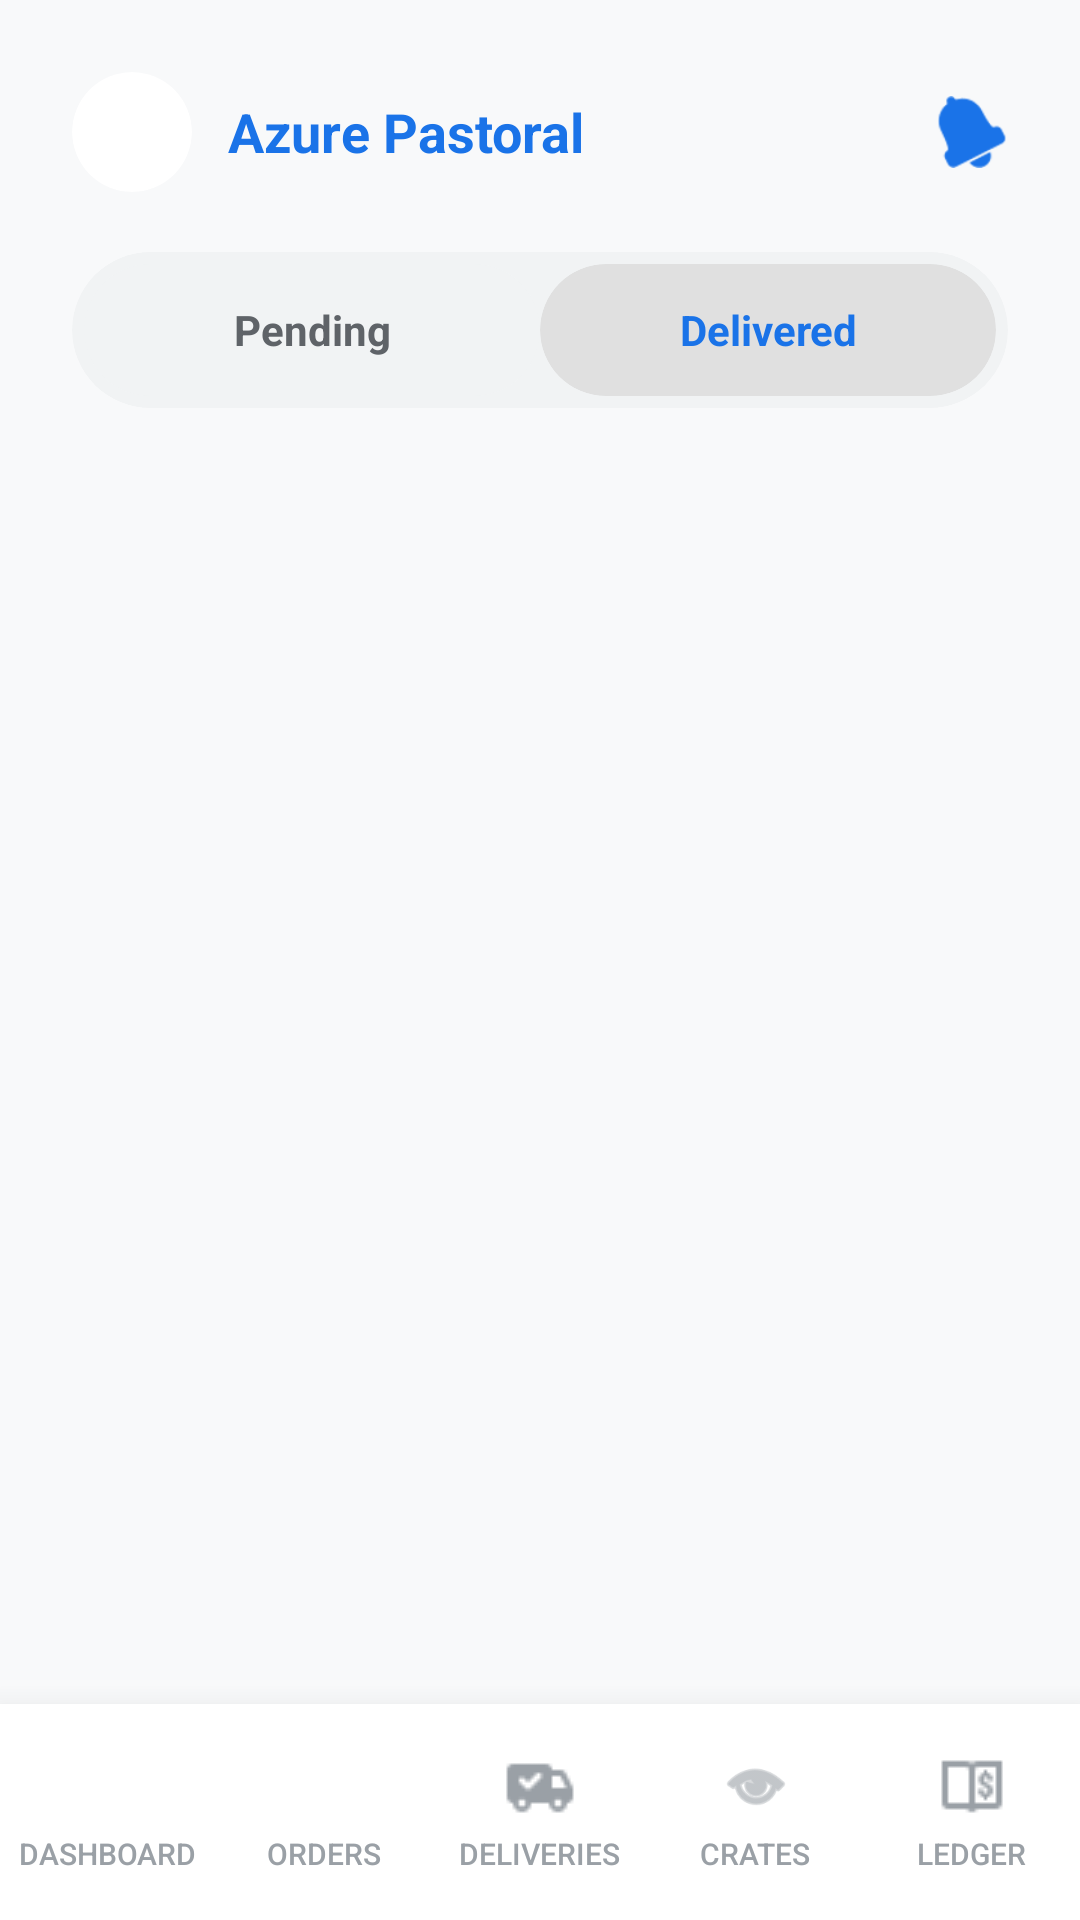

Icon bounding boxes for this 1080x1920 phone screenshot, format (left=x1, top=y1, right=x2, bottom=y2):
popup reminder: (left=938, top=96, right=1006, bottom=168)
view: (left=727, top=1769, right=785, bottom=1805)
